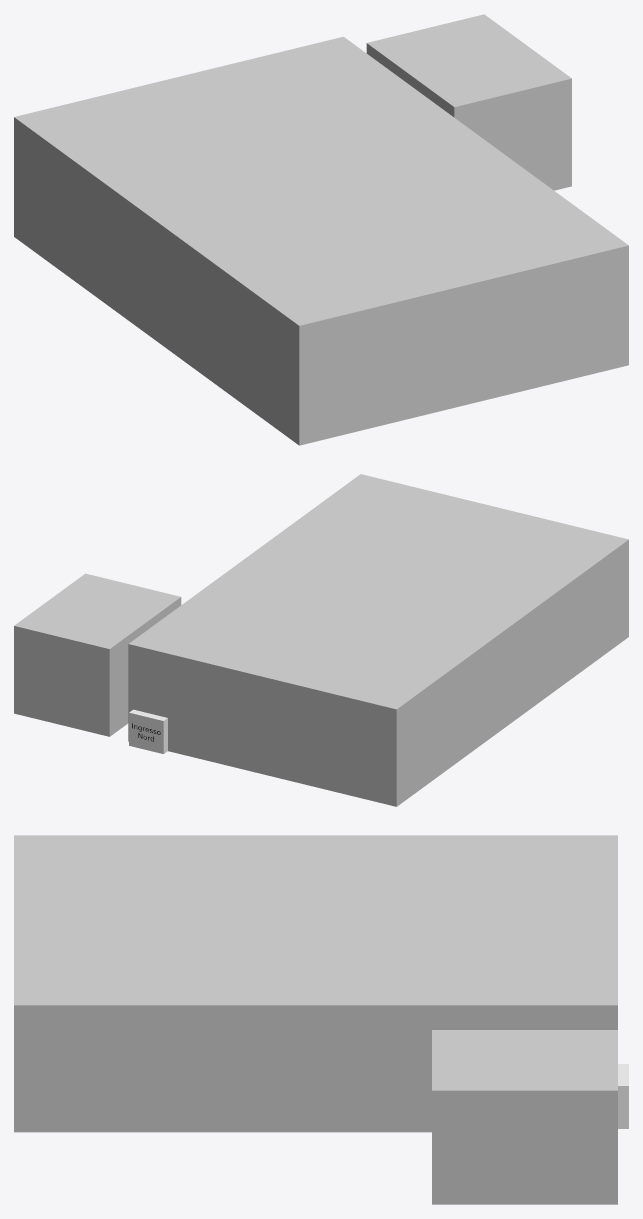
The model's file is Modello_Fiera.glb.
3 renders of one model, top to bottom at view 1: azimuth 30°, elevation 25°; view 2: azimuth 150°, elevation 25°; view 3: azimuth 270°, elevation 25°, orthographic. The views are drawn at different scales.
Visible parts, largest first — view 1: Padiglione 29, Padiglione 28; view 2: Padiglione 29, Padiglione 28, Ingresso Nord; view 3: Padiglione 29, Padiglione 28, Ingresso Nord.
Boxes of the visible parts, x1,y1,x2,y2 form: Padiglione 29: (14, 36, 628, 445); Padiglione 28: (366, 14, 571, 190); Padiglione 29: (128, 474, 628, 806); Padiglione 28: (14, 573, 181, 736); Ingresso Nord: (129, 709, 167, 753); Padiglione 29: (14, 835, 617, 1132); Padiglione 28: (432, 1030, 617, 1204); Ingresso Nord: (618, 1064, 628, 1128).
Size of the model in its own units: 4.11 by 1 by 4.4.
Materials: 1 (1 with a texture image).
